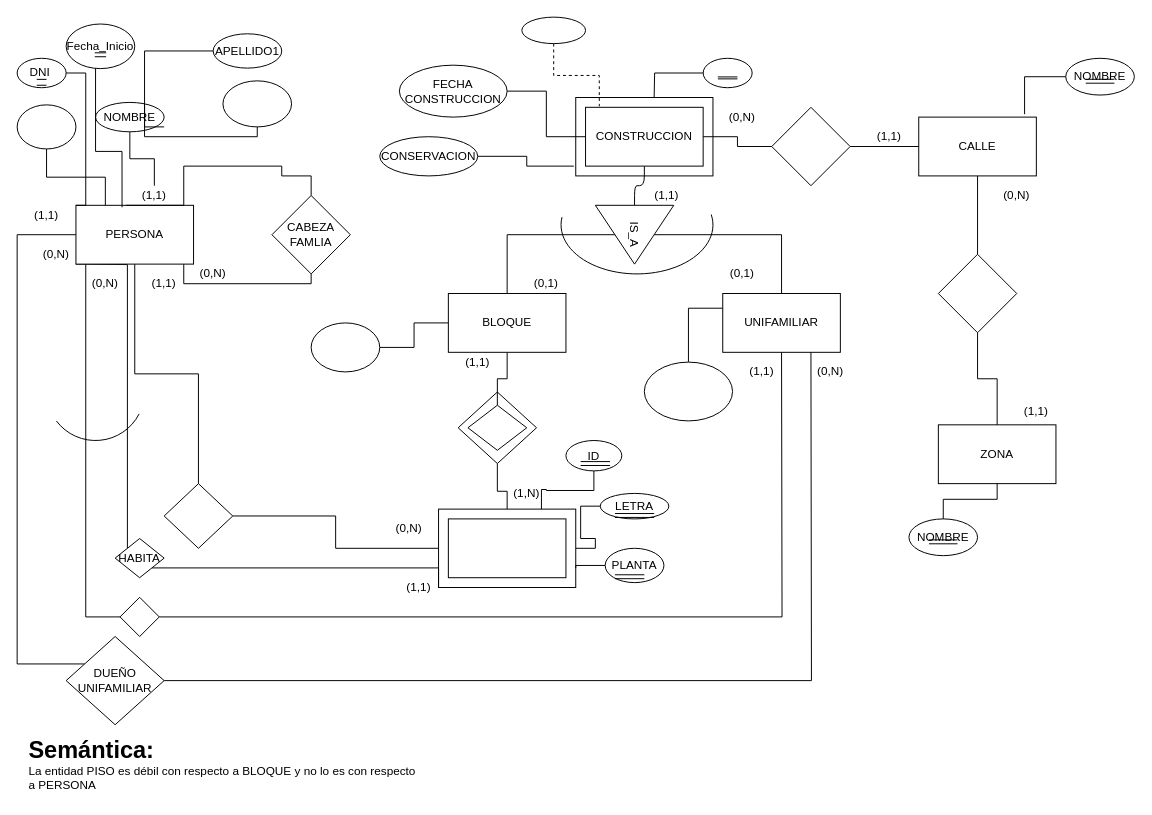
The diagram is 1152 pixels wide and 815 high, and some of its shapes have lost their labels. The shapes that lost their labels are listed below. From the top down, each one's centre as x and y in pixels, then its label:
(x=553, y=30): TIPO
(x=727, y=72): Nº
(x=257, y=103): APELLIDO2
(x=46, y=126): Fecha_Fin
(x=810, y=146): ESTAN
(x=977, y=293): UBICA
(x=345, y=347): NÚMERO DE PISOS
(x=688, y=391): Nº HABITANTES
(x=198, y=515): DUEÑO PISO
(x=506, y=548): PISO
(x=139, y=616): VIVE
